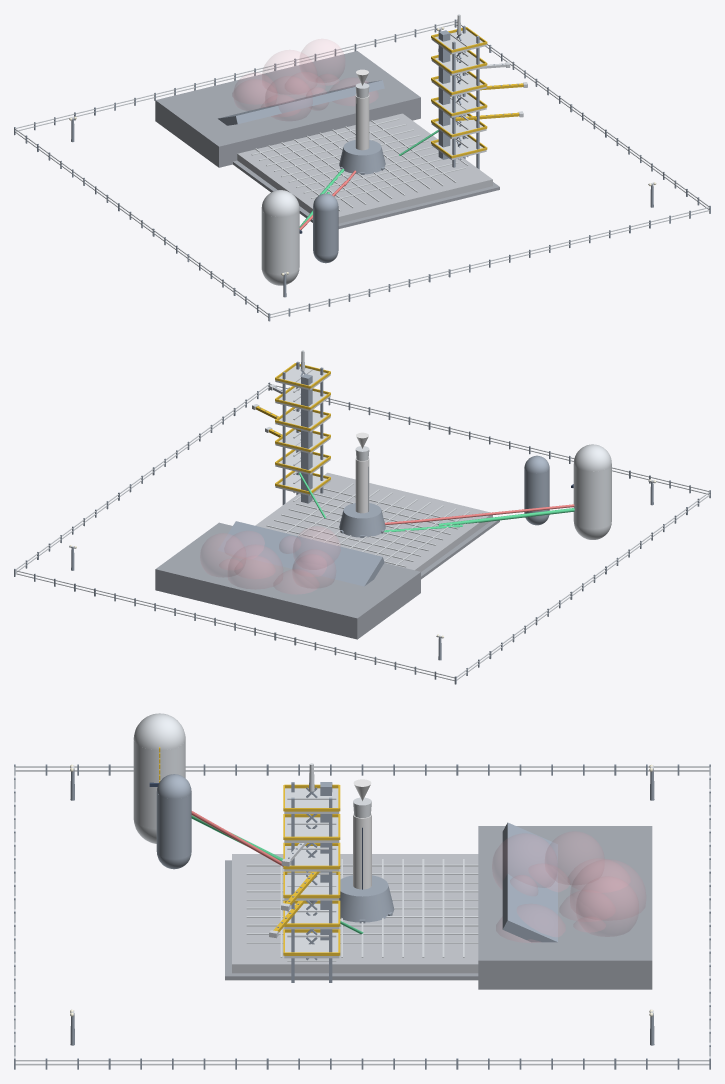
Rendered from launch_pad_base.gltf.
3 views of the same model, one above another, from view 1: azimuth 30°, elevation 25°; view 2: azimuth 150°, elevation 25°; view 3: azimuth 270°, elevation 25° (orthographic). The views are drawn at different scales.
Bounding box in the file's own units: 481 × 178 × 481.
